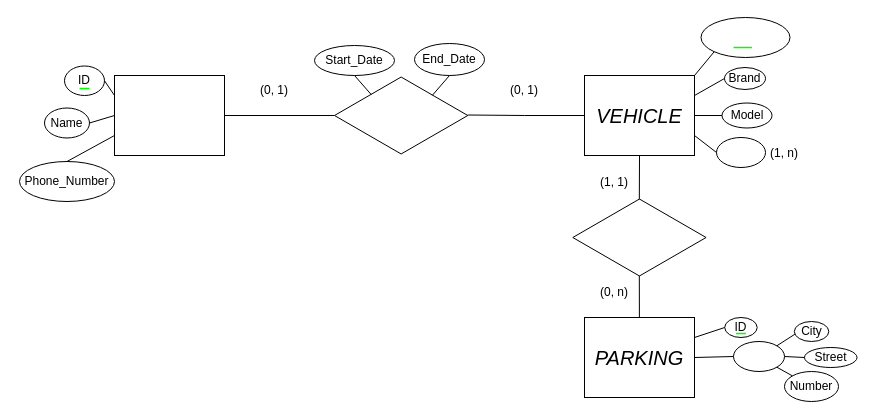
This 875x419 diagram has some shape labels left out. The shapes that lost their labels are listed below. From the top down, each one's centre as x and y in pixels, then its label:
At point (745, 37): "Plate_Number".
At point (169, 115): "Driver".
At point (401, 115): "DRIVES".
At point (741, 152): "Image".
At point (639, 237): "PARK".
At point (758, 356): "Address".
